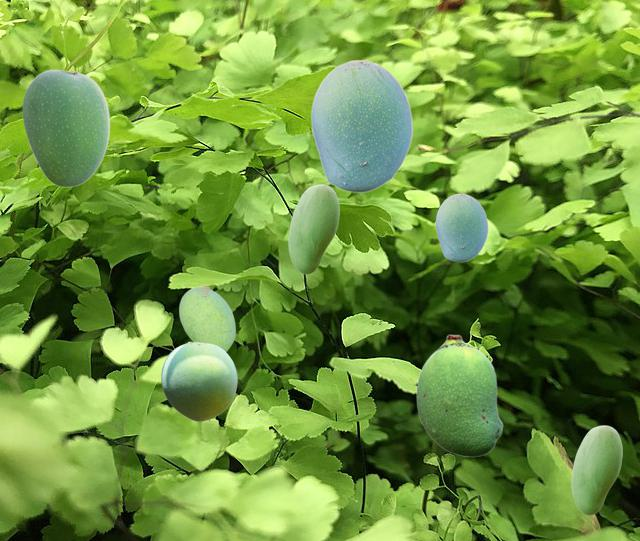green_mango: (310, 59, 412, 192), (416, 334, 502, 456), (22, 69, 109, 186), (161, 341, 236, 420), (571, 425, 621, 514), (288, 184, 338, 273), (179, 286, 234, 351), (435, 193, 487, 261)
